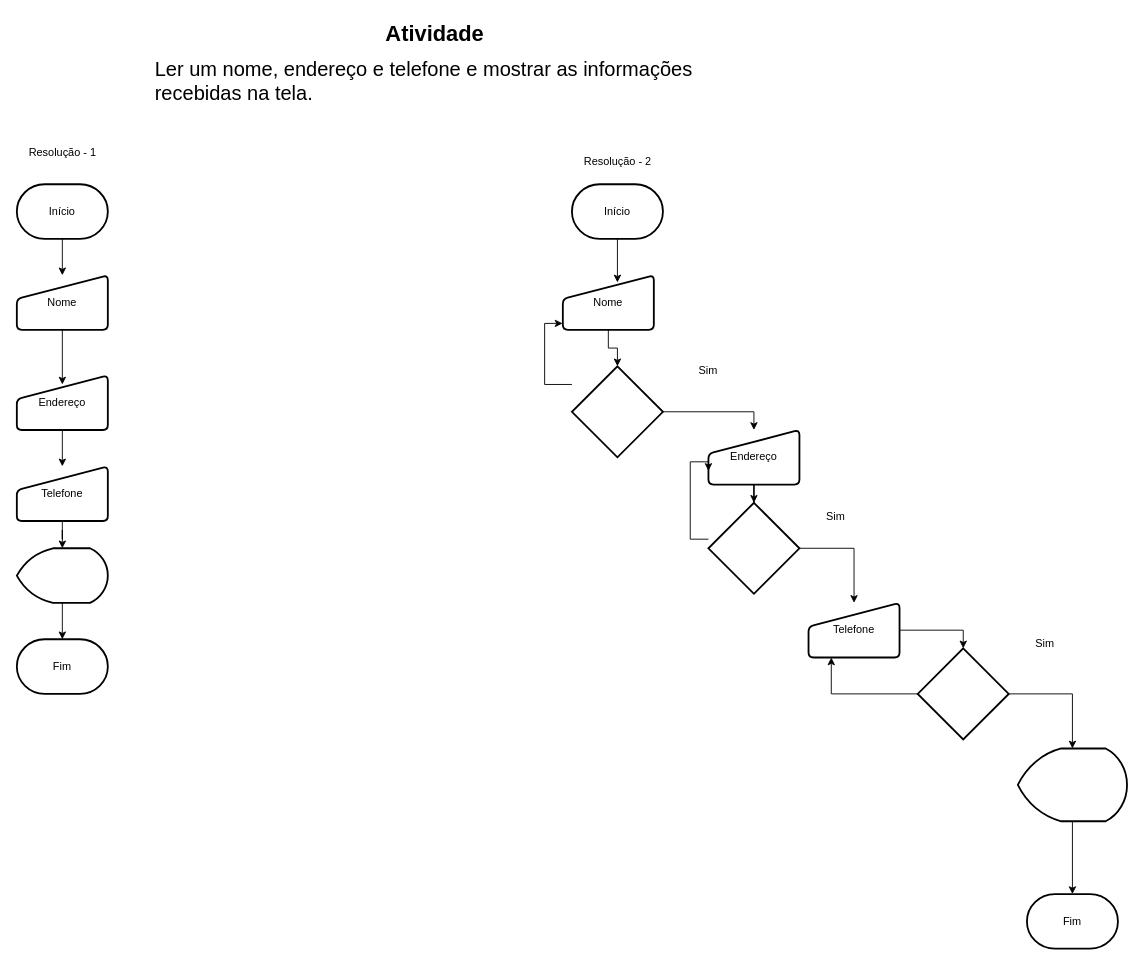
The diagram is 1143 pixels wide and 965 high, and some of its shapes have lost their labels. The shapes that lost their labels are listed below. From the top down, each one's centre as x and y in pixels, then its label:
At (617,411): "é nome?".
At (753,547): "é endereço".
At (61,575): "Nome, endereço e telefone".
At (962,693): "é telefone?".
At (1071,784): "Nome , Endereço e Telefone".
